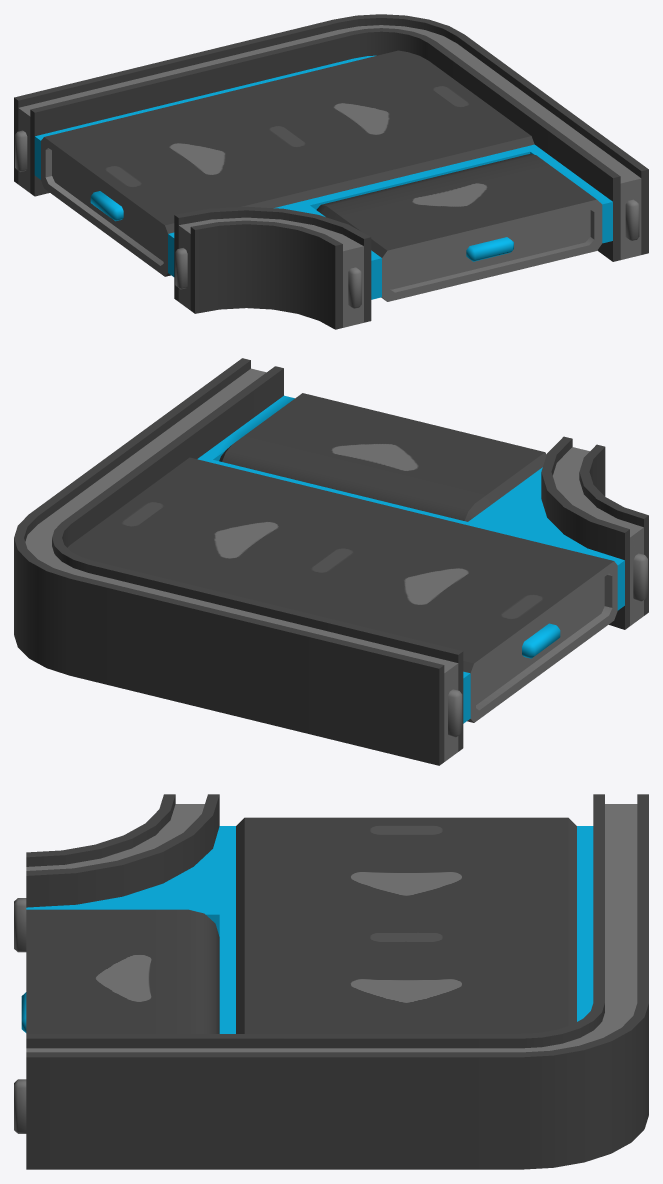
The model's file is Conveyor_Belt_Turn_02.fbx.
The picture shows the model from 3 angles, top to bottom: view 1: azimuth 30°, elevation 25°; view 2: azimuth 150°, elevation 25°; view 3: azimuth 270°, elevation 25°; orthographic projection. The views are drawn at different scales.
Parts seen in each view (by area): view 1: Conveyor_Belt_Turn_02; view 2: Conveyor_Belt_Turn_02; view 3: Conveyor_Belt_Turn_02.
Part boxes in pixels (x1,y1,x2,y2): Conveyor_Belt_Turn_02: (14, 14, 648, 329); Conveyor_Belt_Turn_02: (14, 358, 648, 765); Conveyor_Belt_Turn_02: (14, 794, 648, 1169).
Bounding box in the file's own units: 167 × 32.6 × 167.
